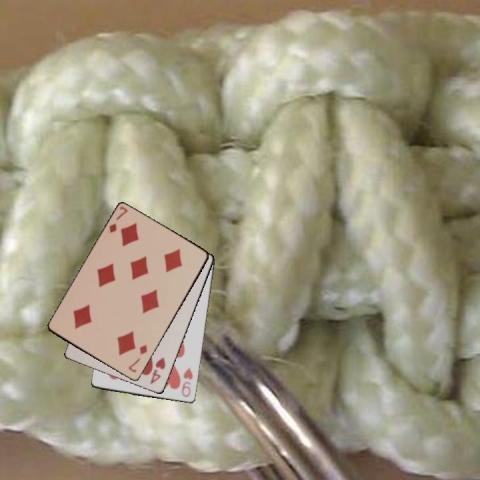4h: (147, 354, 167, 386)
7d: (125, 342, 149, 374), (106, 204, 129, 235)
9h: (178, 365, 194, 399)
